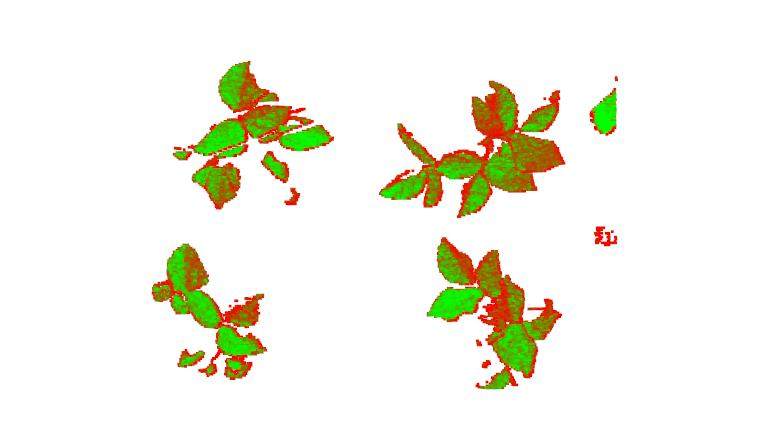mungbean: (376, 81, 573, 217), (180, 59, 337, 207), (431, 235, 561, 386), (145, 244, 269, 384)
